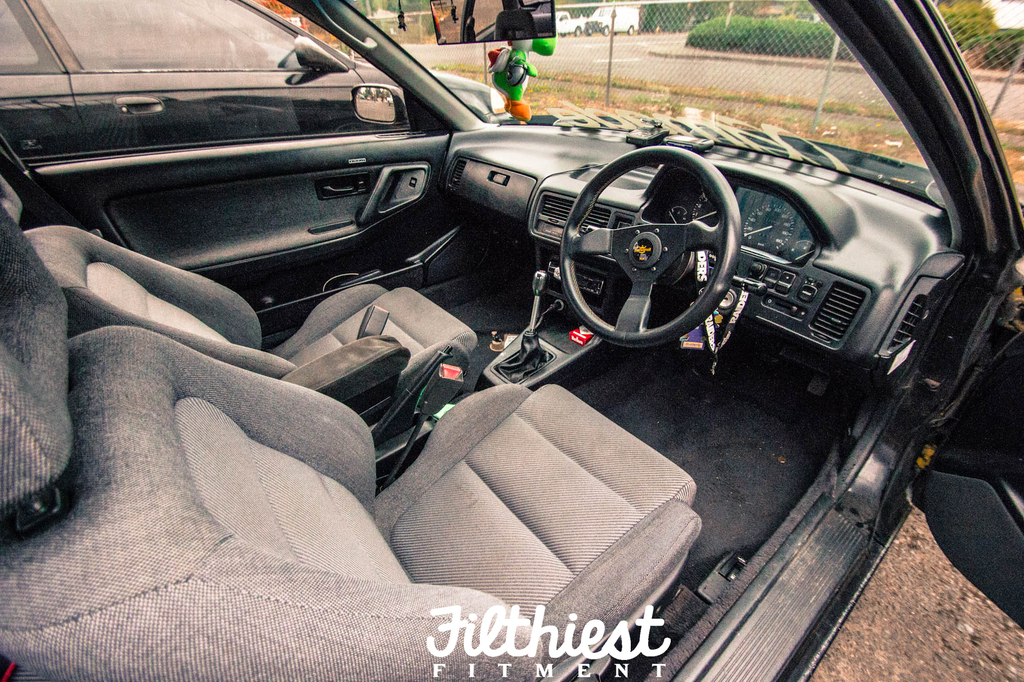Car: (0, 0, 1023, 681), (0, 0, 516, 159), (583, 0, 634, 30)
